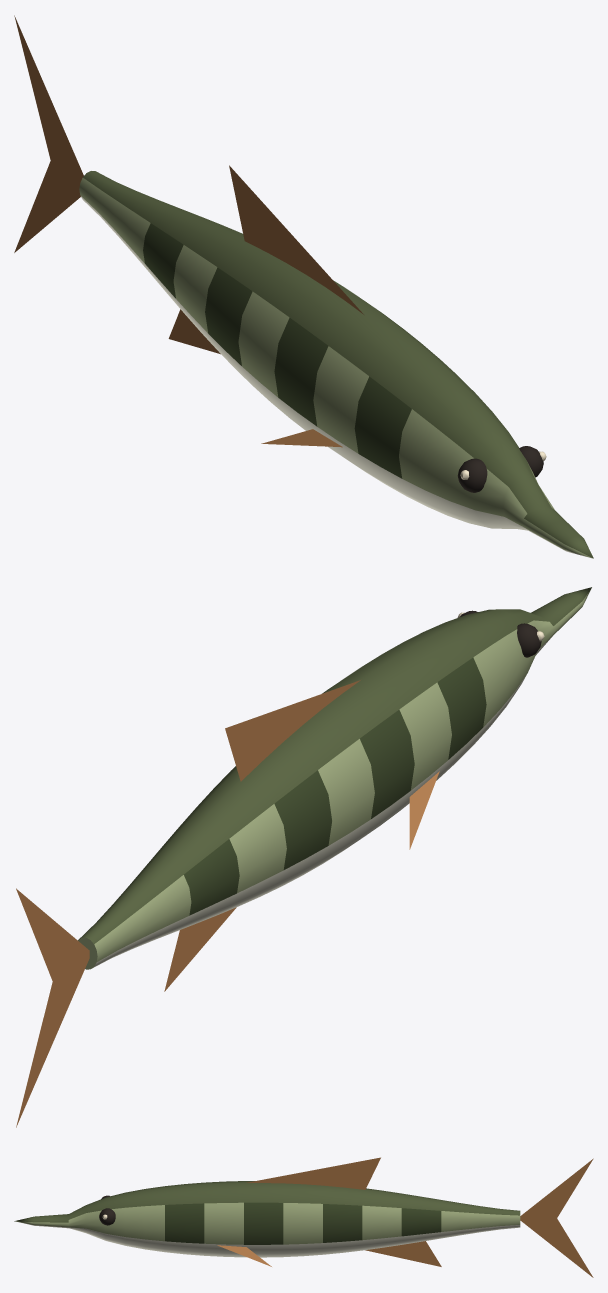
Rendered from muskie.fbx.
3 renders of one model, top to bottom at view 1: azimuth 30°, elevation 25°; view 2: azimuth 150°, elevation 25°; view 3: azimuth 270°, elevation 25°, orthographic. The views are drawn at different scales.
Parts seen in each view (by area): view 1: Fish_muskie_EXP; view 2: Fish_muskie_EXP; view 3: Fish_muskie_EXP.
Part boxes in pixels (x1,y1,x2,y2): Fish_muskie_EXP: [14, 15, 593, 558]; Fish_muskie_EXP: [16, 587, 591, 1127]; Fish_muskie_EXP: [14, 1157, 593, 1277].
Size of the model in its own units: 0.1725 by 0.2635 by 1.14.
